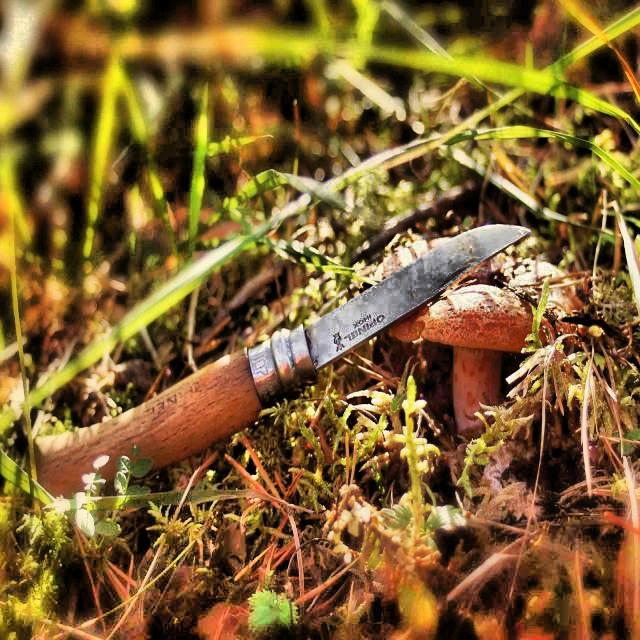knife: (34, 220, 536, 499)
